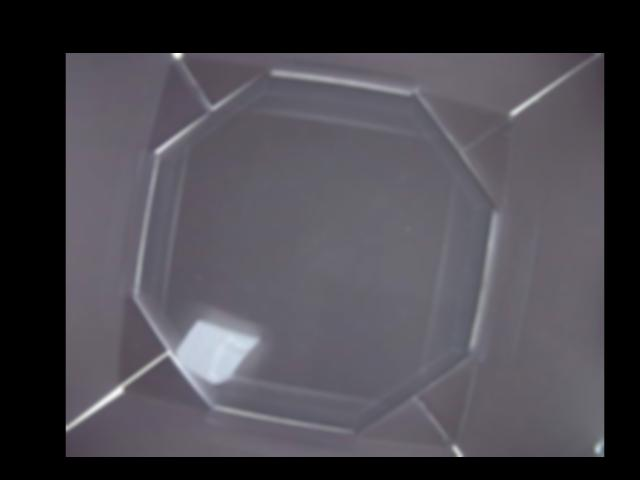China: (176, 315, 260, 386)
